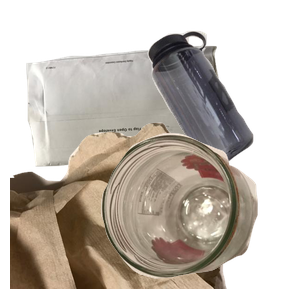glass: (98, 131, 300, 300)
paper: (24, 43, 242, 202)
plastic: (145, 28, 300, 192)
trash: (10, 120, 229, 300)
